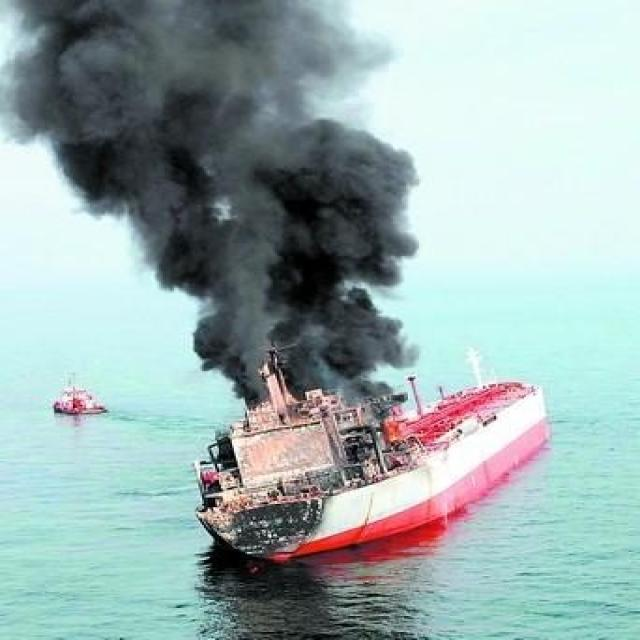Smoke: (2, 1, 423, 418)
